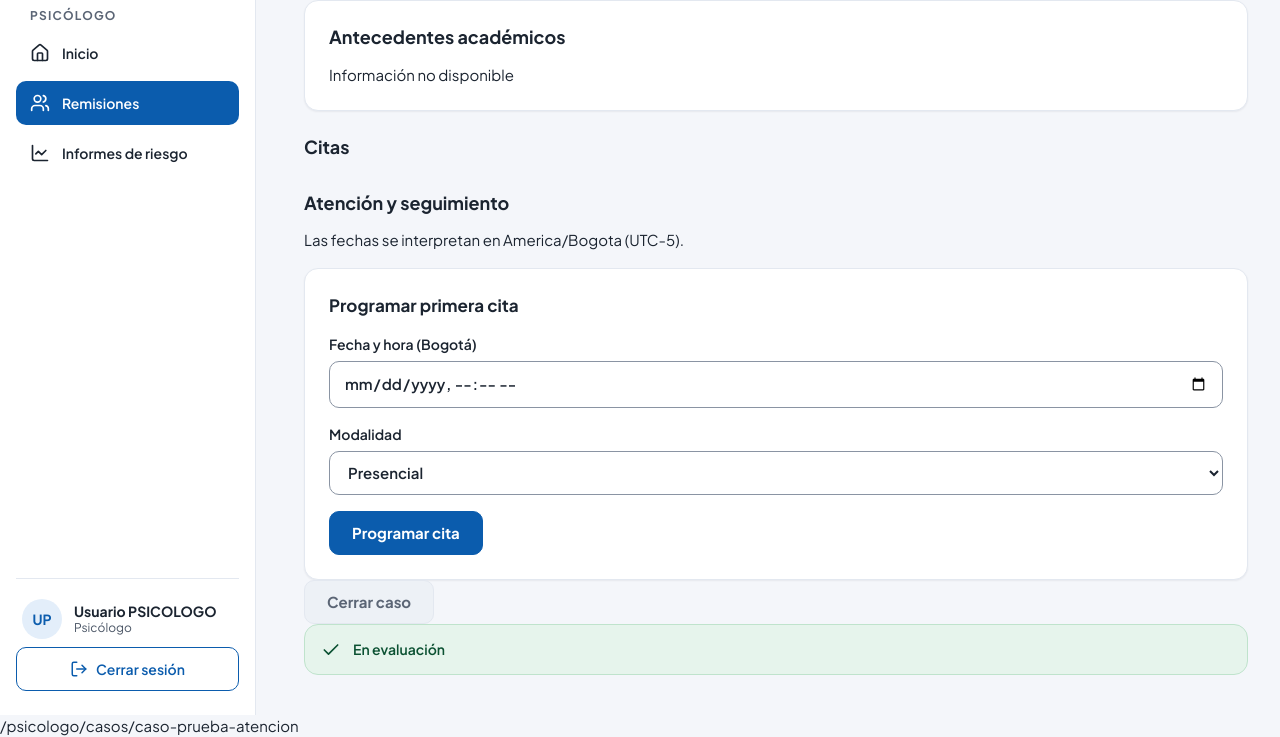
Test case: Atención psicológica (F4b) › muestra literalmente el error del backend para una fecha pasada
The image size is (1280, 737).
(page scrolled)
Type "2026-11-15T09:00" into the field labelled "Fecha y hora (Bogotá)" at x=776, y=385, box [329, 361, 1223, 408]
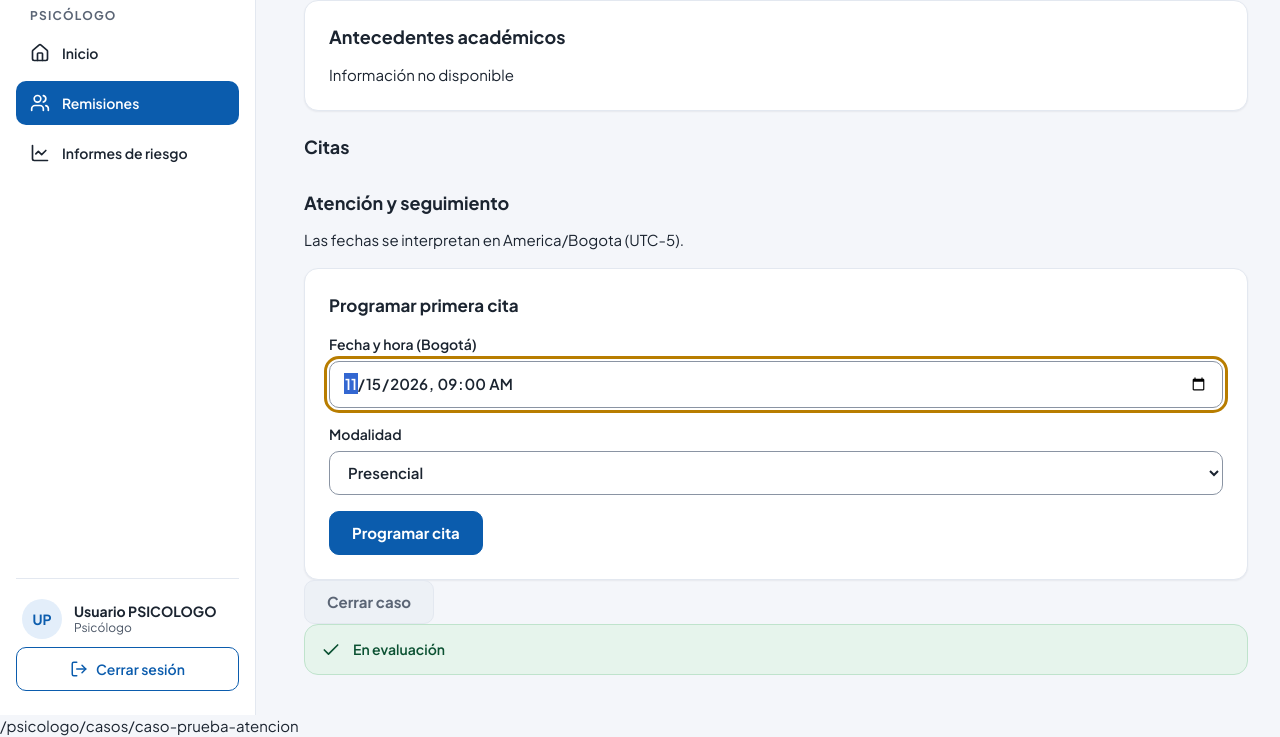
Click the button "Programar cita" at x=406, y=533, box [329, 511, 483, 555]
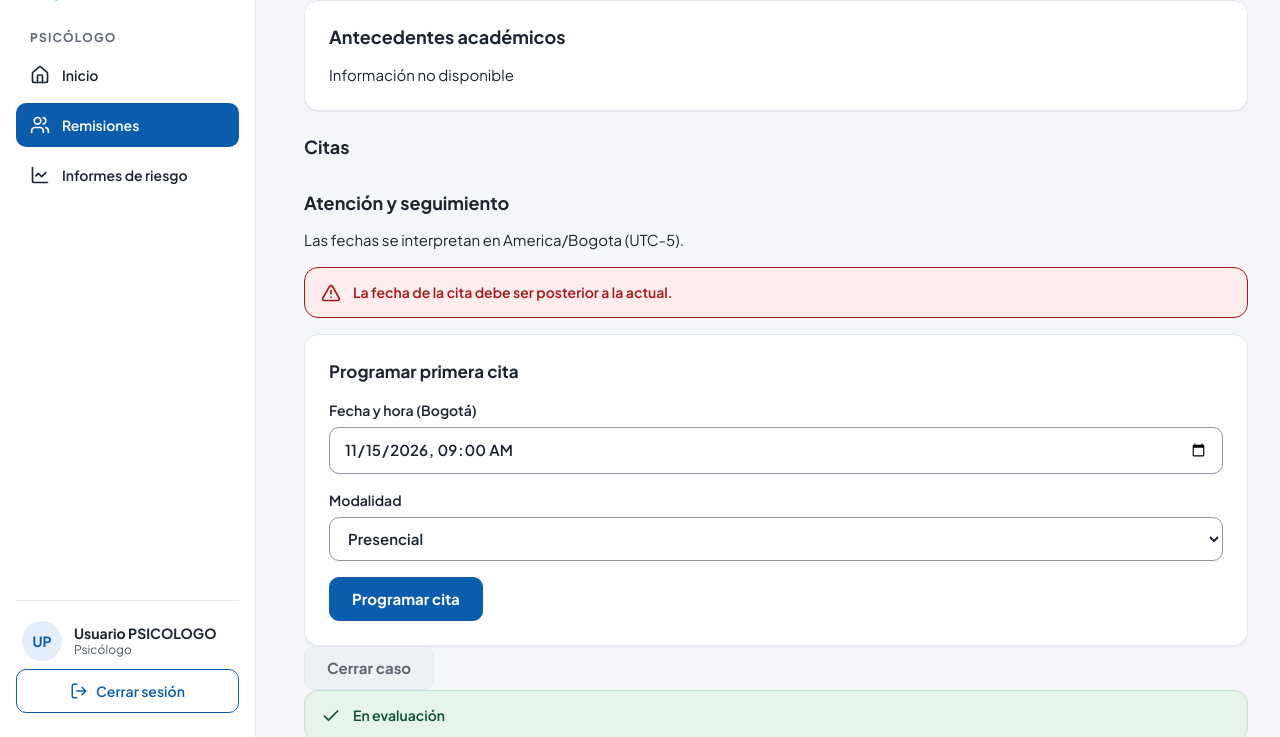
Expected: the text "La fecha de la cita debe ser posterior a la actual." is shown, [353, 282, 673, 303]
